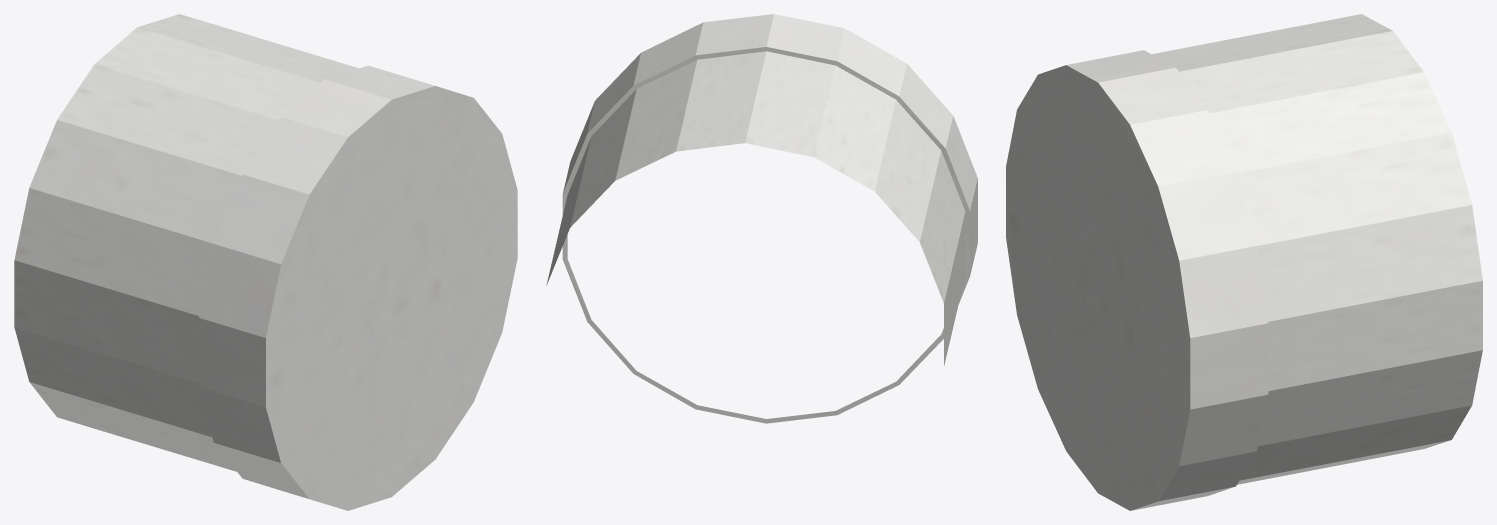
The model's file is ztpj023-geode.glb.
The picture shows the model from 3 angles, left to right: view 1: azimuth 30°, elevation 25°; view 2: azimuth 150°, elevation 25°; view 3: azimuth 270°, elevation 25°; orthographic projection. The views are drawn at different scales.
Parts seen in each view (by area): view 1: Node; view 2: Node; view 3: Node.
Boxes of the visible parts, left/top/right/bottom form: Node: left=14, top=14, right=517, bottom=510; Node: left=546, top=14, right=977, bottom=423; Node: left=1006, top=14, right=1482, bottom=510.
Size of the model in its own units: 0.208 by 0.1761 by 0.1853.
1 material, 1 textured.
